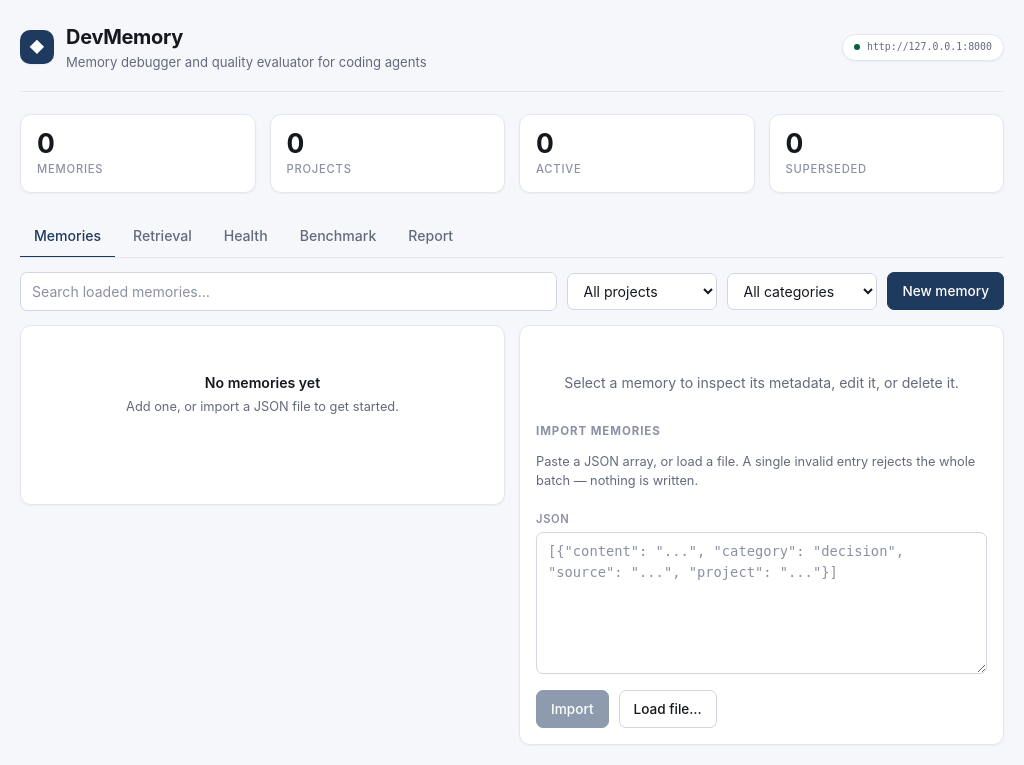
Test: create › blocks submission while confidence is out of range
expect the text "No memories yet" is shown: met, box [205,374,320,391]
Click the button "New memory" at (946, 291), box [887,272,1004,310]
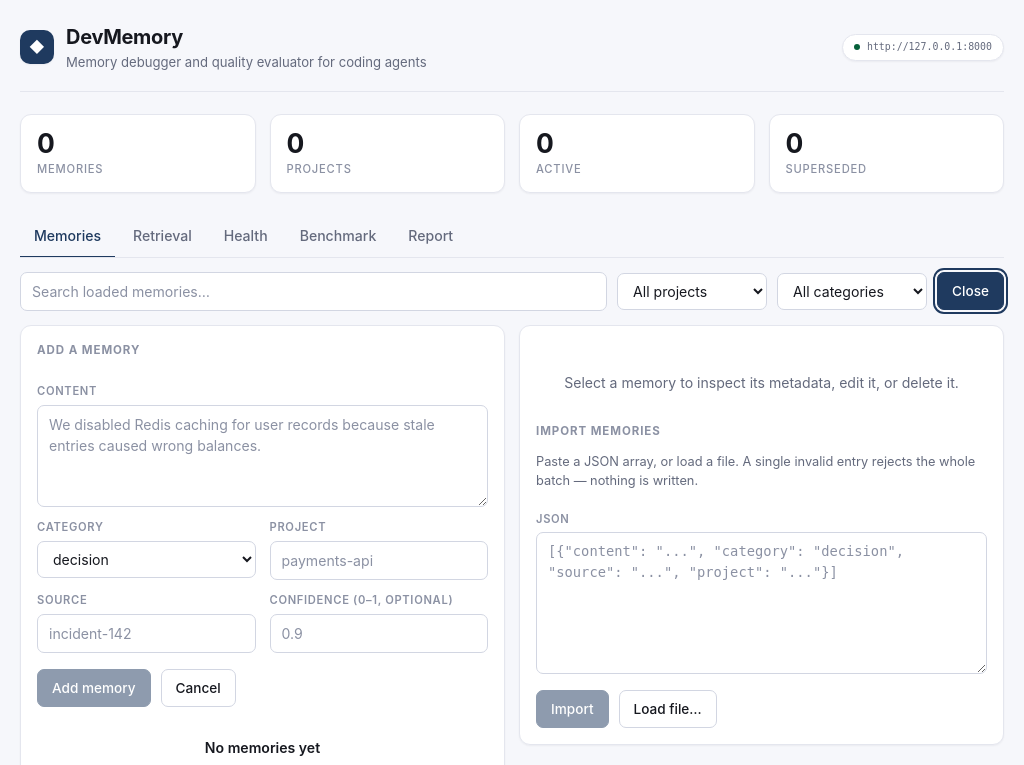
Type "Something." into the text box labelled "Content" at (262, 456), box [37,405,488,507]
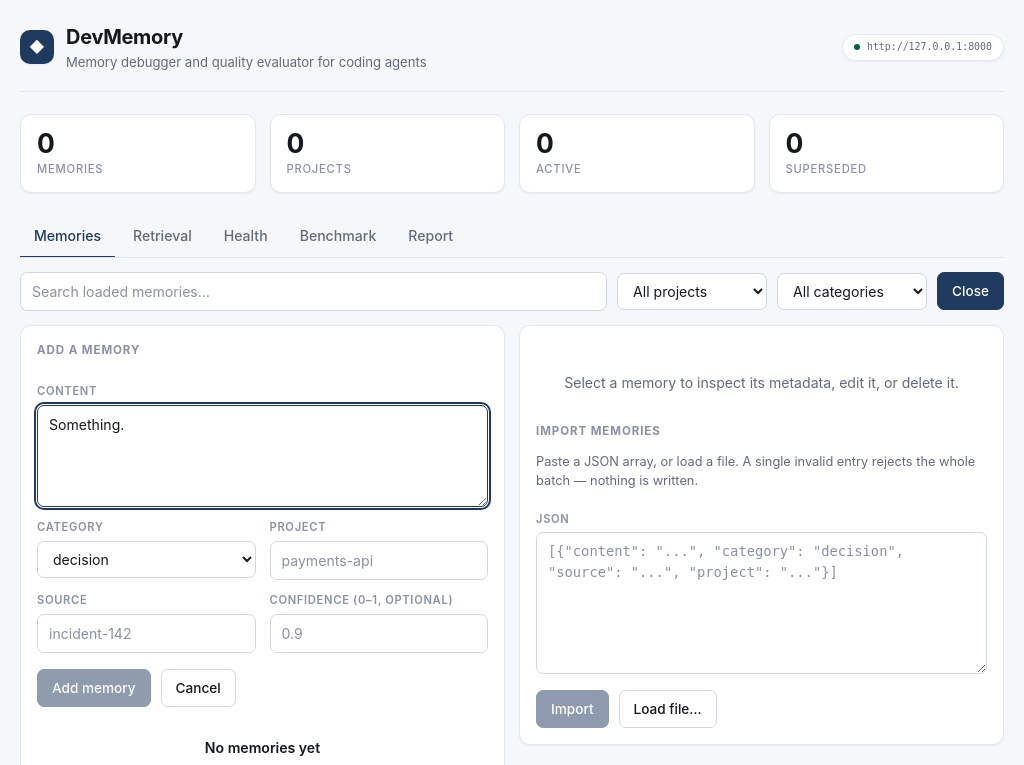
Type "p" into the field labelled "Project" at (379, 561), box [270,541,488,580]
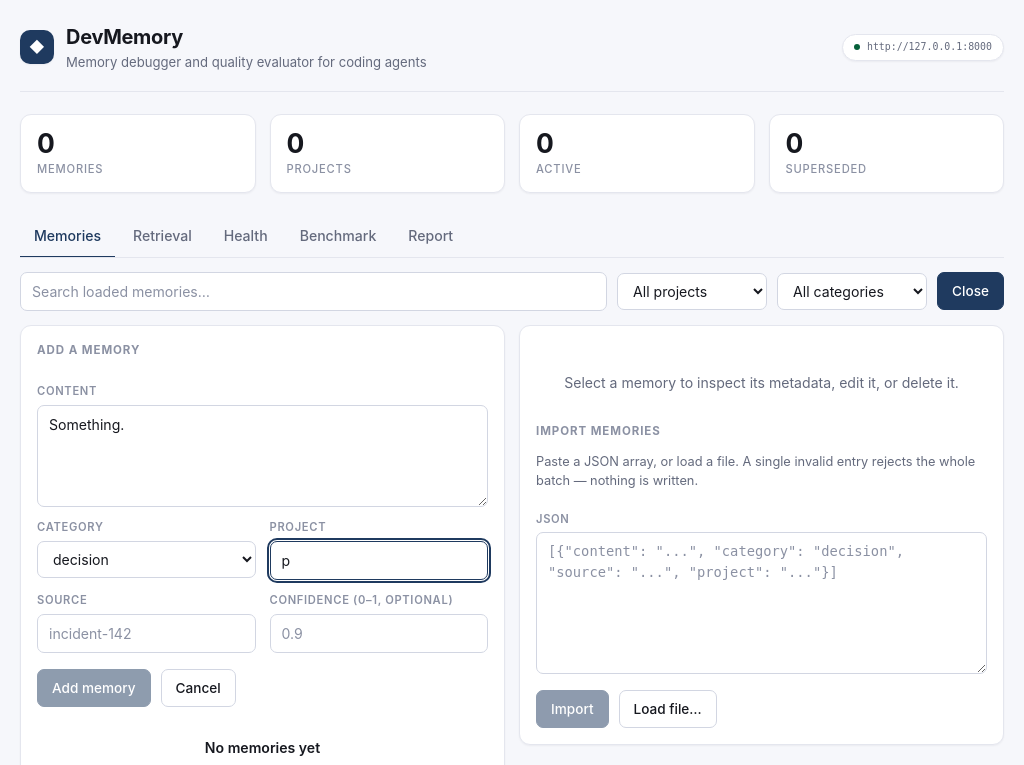
Type "s" into the field labelled "Source" at (146, 634), box [37,614,256,653]
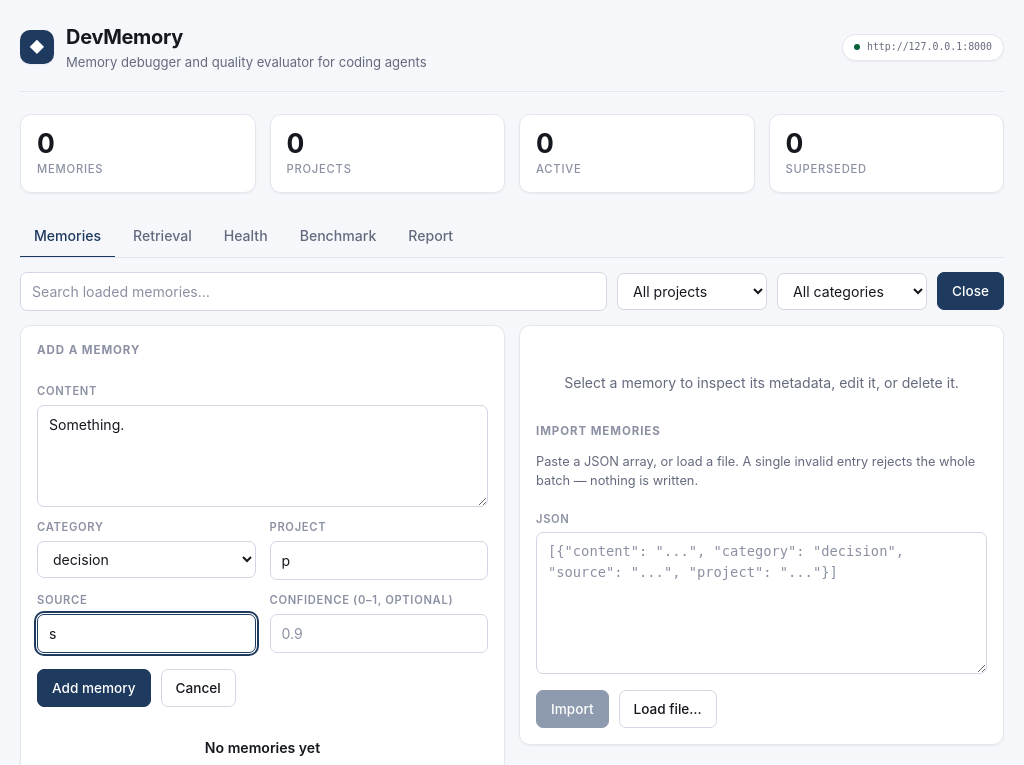
Type "1.5" into the field labelled "Confidence (0–1, optional)" at (379, 634), box [270,614,488,653]
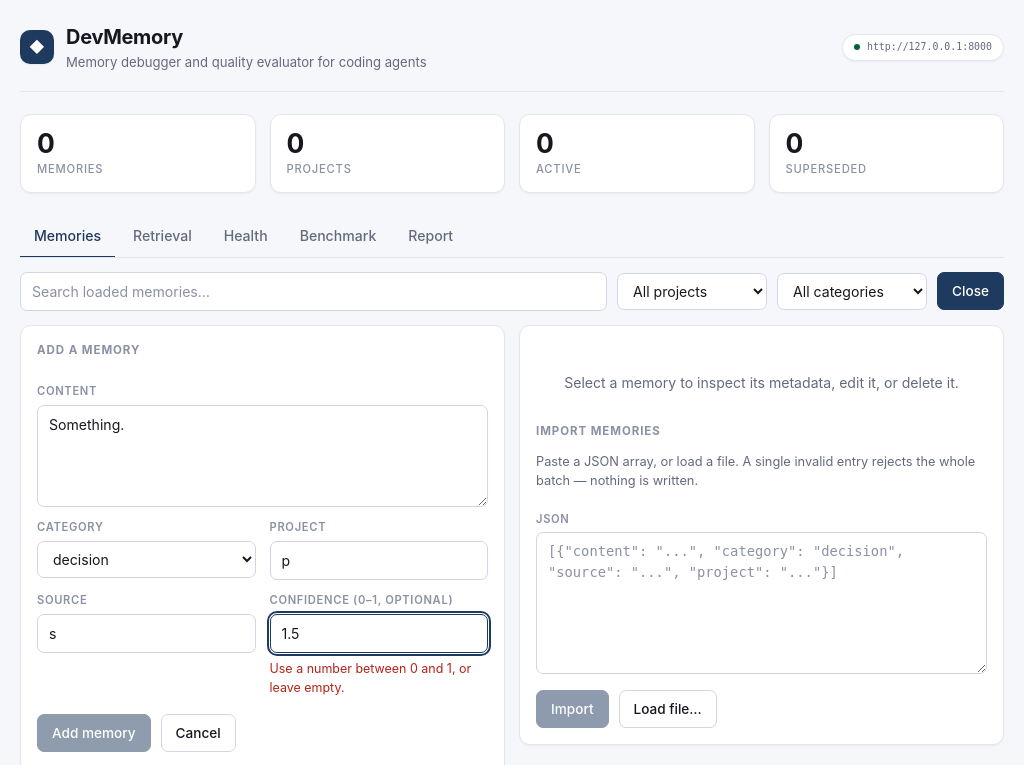
expect the text "Use a number between 0 and 1, or leave empty." is shown: met, box [270,660,488,698]
expect the button "Add memory" is disabled: met, box [37,714,151,752]
